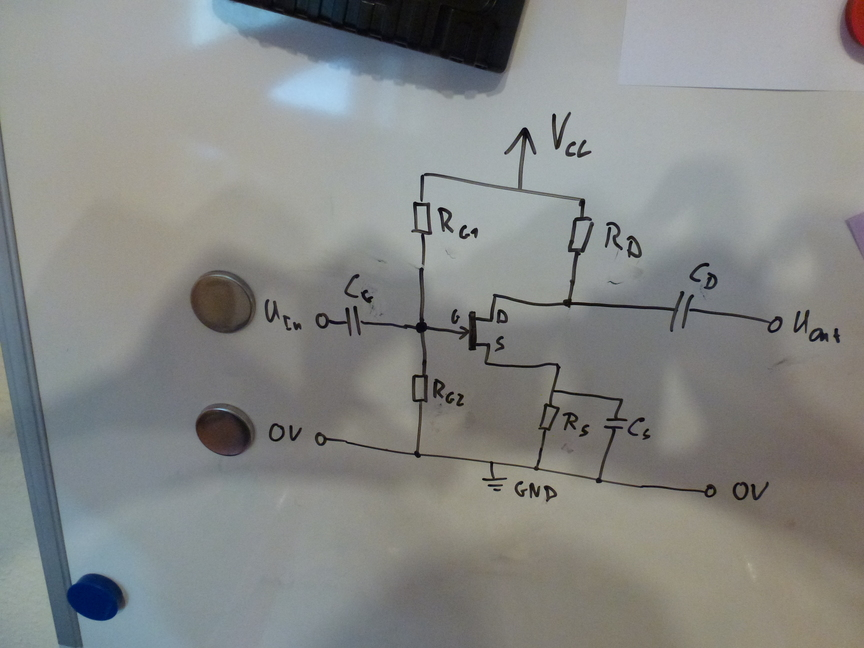capacitor.unpolarized: (668, 290, 696, 333), (342, 305, 368, 338), (603, 415, 627, 433)
gnd: (481, 475, 509, 494)
junction: (415, 320, 428, 335), (561, 297, 575, 310), (577, 196, 587, 208), (486, 458, 496, 469), (412, 450, 422, 460), (515, 186, 525, 196), (594, 476, 603, 486), (482, 358, 491, 367), (419, 170, 428, 179), (554, 360, 562, 369), (491, 291, 499, 300), (618, 396, 626, 404), (532, 464, 540, 472), (550, 387, 557, 395)
resistor: (567, 215, 595, 254), (411, 199, 434, 238), (538, 402, 561, 432), (411, 373, 429, 403)
terminal: (314, 310, 332, 330), (766, 315, 784, 334), (701, 483, 719, 499), (313, 430, 329, 448)
text: (551, 110, 592, 159), (792, 309, 841, 344), (436, 206, 480, 241), (603, 221, 643, 259), (263, 298, 303, 332), (513, 480, 558, 503), (343, 273, 374, 304), (432, 378, 465, 407), (688, 261, 718, 290), (731, 480, 769, 502), (268, 422, 303, 443), (562, 411, 589, 437), (627, 417, 651, 441), (496, 309, 509, 324), (450, 308, 461, 325), (495, 335, 505, 352)
transistor: (458, 310, 495, 352)
vss: (503, 126, 538, 157)
